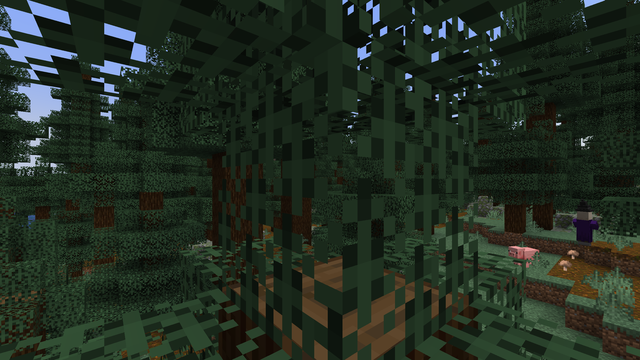cochons: (513, 245, 538, 268)
sorcieres: (576, 209, 592, 246)
